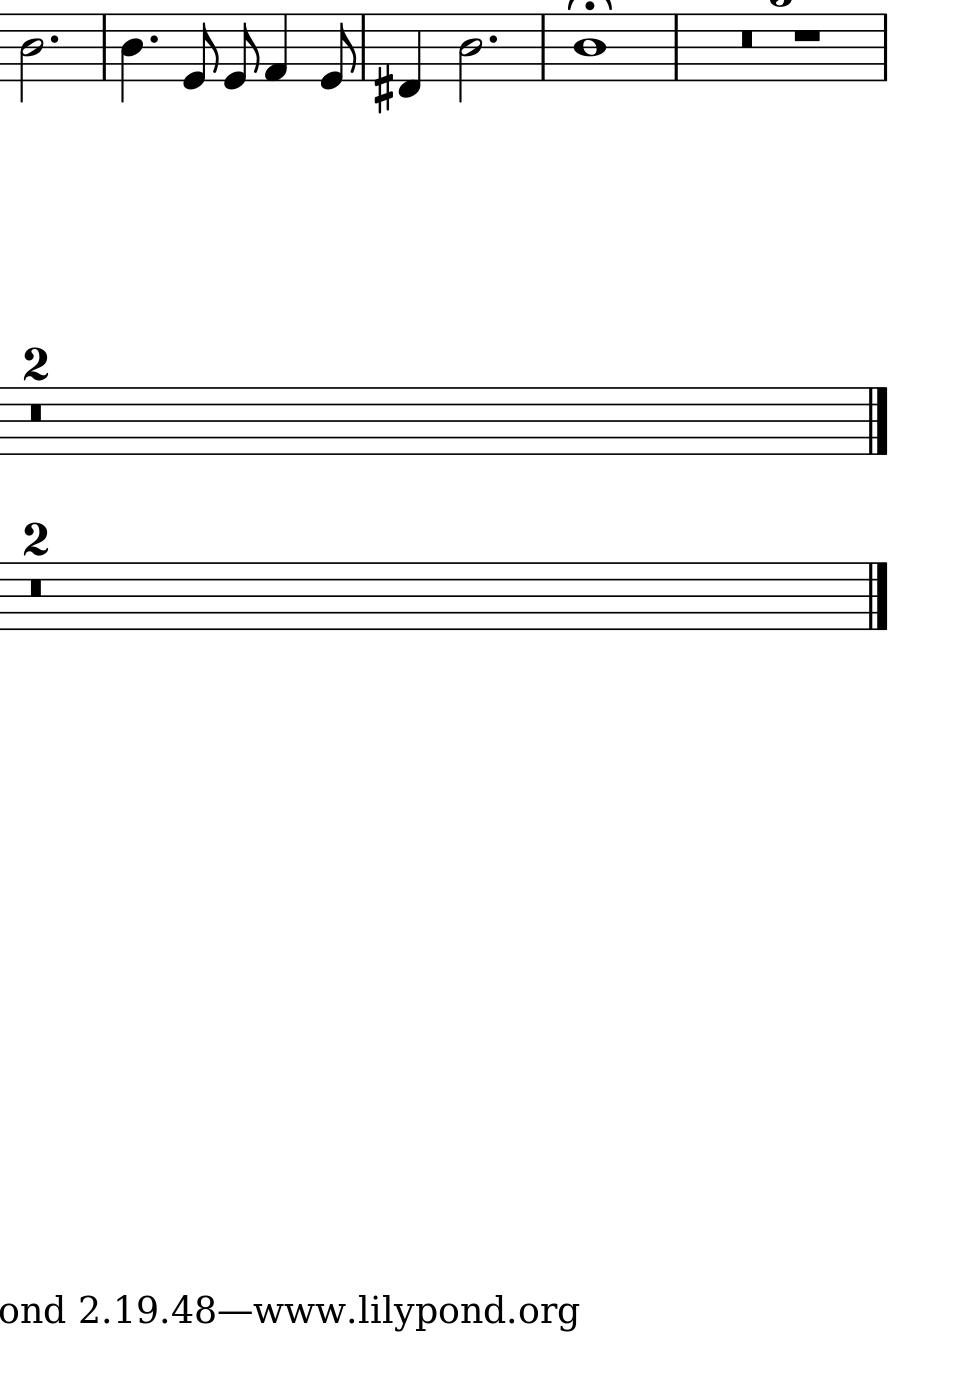1_4: (574, 12, 606, 82)
2_4: (19, 12, 43, 104), (458, 13, 483, 103)
4_-1: (398, 13, 422, 99)
4_1: (264, 13, 288, 82)
4_4: (120, 12, 143, 103)
8_0: (221, 13, 261, 90), (317, 13, 357, 90), (183, 12, 220, 90)
Final_barline: (863, 387, 891, 455), (863, 562, 890, 630)
Rests2: (789, 27, 824, 43)
Sharp: (373, 63, 395, 115)
Single_barline: (876, 14, 894, 81), (667, 14, 684, 81), (535, 15, 552, 81), (97, 15, 112, 80), (356, 15, 371, 80)
dot: (486, 32, 498, 46), (47, 33, 60, 46), (147, 32, 159, 46)
